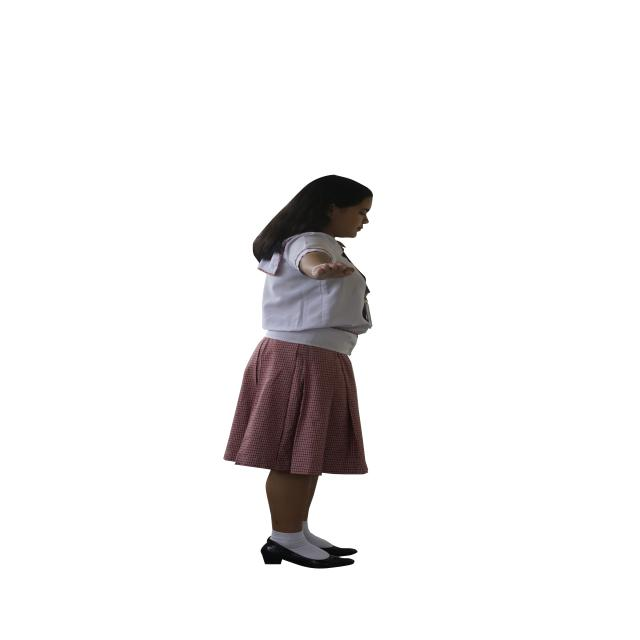pologirl: (258, 232, 372, 355)
shoes: (261, 538, 355, 569)
skirt: (224, 337, 368, 475)
